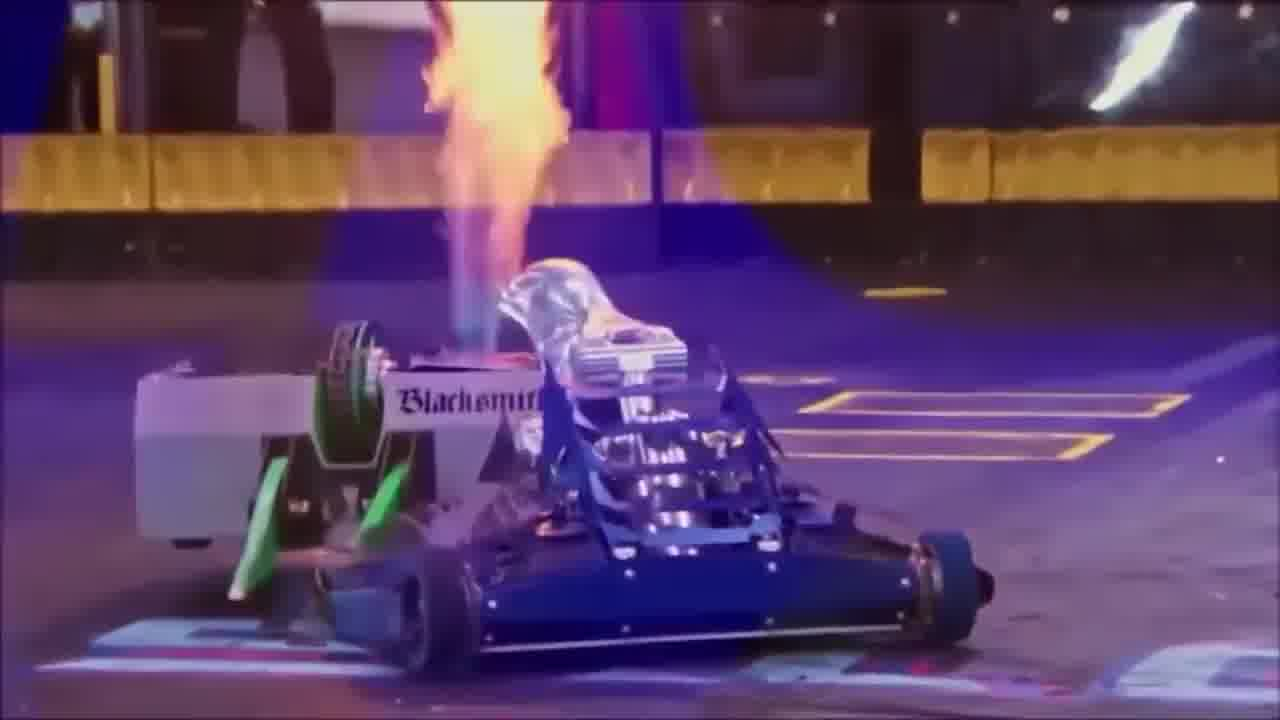combatbot: (316, 254, 993, 684), (134, 320, 548, 602)
